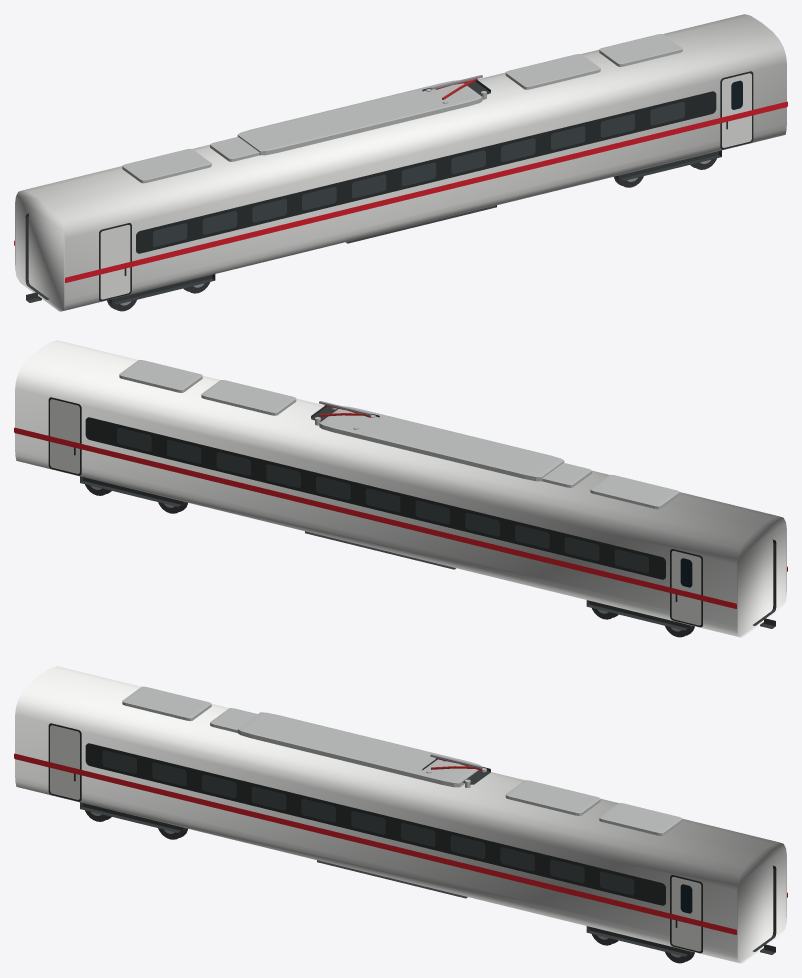
Rendered from ice3-br403-v2-unified-second-transformer-403-6.glb.
3 views of the same model, one above another, from view 1: azimuth 30°, elevation 25°; view 2: azimuth 150°, elevation 25°; view 3: azimuth 330°, elevation 25° (orthographic).
Parts seen in each view (by area): view 1: ice3_continuity_shared_transformer_shell.005, ice3_unified_second_transformer_403_6_continuous_black_glazi, ice3_v2_second_transformer_403_6_transformer_roof_cabinet, ice3_unified_second_transformer_403_6_shared_red_body_stripe, ice3_unified_second_transformer_403_6_rear_door_leaf_-1, ice3_v2_second_transformer_403_6_roof_fairing_3, ice3_v2_second_transformer_403_6_roof_fairing_0, ice3_v2_second_transformer_403_6_roof_fairing_4, ice3_unified_second_transformer_403_6_front_door_leaf_-1, ice3_v2_second_transformer_403_6_roof_fairing_1, ice3_v2_second_transformer_403_6_bogie_0_sideframe_-1, ice3_v2_second_transformer_403_6_bogie_1_sideframe_-1 (+11 smaller); view 2: ice3_continuity_shared_transformer_shell.005, ice3_unified_second_transformer_403_6_continuous_black_glazi, ice3_v2_second_transformer_403_6_transformer_roof_cabinet, ice3_unified_second_transformer_403_6_shared_red_body_stripe, ice3_v2_second_transformer_403_6_roof_fairing_3, ice3_unified_second_transformer_403_6_front_door_leaf_1, ice3_v2_second_transformer_403_6_roof_fairing_0, ice3_unified_second_transformer_403_6_rear_door_leaf_1, ice3_v2_second_transformer_403_6_roof_fairing_4, ice3_v2_second_transformer_403_6_bogie_0, ice3_v2_second_transformer_403_6_bogie_1, ice3_v2_second_transformer_403_6_roof_fairing_1 (+11 smaller); view 3: ice3_continuity_shared_transformer_shell.005, ice3_unified_second_transformer_403_6_continuous_black_glazi, ice3_v2_second_transformer_403_6_transformer_roof_cabinet, ice3_unified_second_transformer_403_6_shared_red_body_stripe, ice3_v2_second_transformer_403_6_roof_fairing_3, ice3_unified_second_transformer_403_6_rear_door_leaf_-1, ice3_v2_second_transformer_403_6_roof_fairing_0, ice3_unified_second_transformer_403_6_front_door_leaf_-1, ice3_v2_second_transformer_403_6_roof_fairing_4, ice3_v2_second_transformer_403_6_bogie_1_sideframe_-1, ice3_v2_second_transformer_403_6_bogie_0_sideframe_-1, ice3_v2_second_transformer_403_6_roof_fairing_1 (+11 smaller).
Boxes of the visible parts, x1=… form: ice3_continuity_shared_transformer_shell.005: x1=15, y1=14, x2=786, y2=311; ice3_unified_second_transformer_403_6_continuous_black_glazi: x1=136, y1=91, x2=716, y2=253; ice3_v2_second_transformer_403_6_transformer_roof_cabinet: x1=237, y1=80, x2=482, y2=155; ice3_unified_second_transformer_403_6_shared_red_body_stripe: x1=65, y1=101, x2=787, y2=282; ice3_unified_second_transformer_403_6_rear_door_leaf_-1: x1=100, y1=225, x2=130, y2=299; ice3_v2_second_transformer_403_6_roof_fairing_3: x1=505, y1=54, x2=600, y2=89; ice3_v2_second_transformer_403_6_roof_fairing_0: x1=122, y1=148, x2=211, y2=183; ice3_v2_second_transformer_403_6_roof_fairing_4: x1=599, y1=34, x2=682, y2=66; ice3_unified_second_transformer_403_6_front_door_leaf_-1: x1=722, y1=73, x2=751, y2=147; ice3_v2_second_transformer_403_6_roof_fairing_1: x1=210, y1=137, x2=259, y2=161; ice3_v2_second_transformer_403_6_bogie_0_sideframe_-1: x1=114, y1=274, x2=215, y2=304; ice3_v2_second_transformer_403_6_bogie_1_sideframe_-1: x1=620, y1=150, x2=721, y2=180; ice3_continuity_shared_transformer_shell.005: x1=15, y1=340, x2=786, y2=637; ice3_unified_second_transformer_403_6_continuous_black_glazi: x1=85, y1=417, x2=665, y2=579; ice3_v2_second_transformer_403_6_transformer_roof_cabinet: x1=319, y1=406, x2=564, y2=481; ice3_unified_second_transformer_403_6_shared_red_body_stripe: x1=14, y1=427, x2=736, y2=608; ice3_v2_second_transformer_403_6_roof_fairing_3: x1=201, y1=380, x2=296, y2=415; ice3_unified_second_transformer_403_6_front_door_leaf_1: x1=50, y1=399, x2=79, y2=473; ice3_v2_second_transformer_403_6_roof_fairing_0: x1=590, y1=474, x2=679, y2=509; ice3_unified_second_transformer_403_6_rear_door_leaf_1: x1=671, y1=551, x2=701, y2=625; ice3_v2_second_transformer_403_6_roof_fairing_4: x1=119, y1=360, x2=202, y2=392; ice3_v2_second_transformer_403_6_bogie_0: x1=586, y1=600, x2=694, y2=637; ice3_v2_second_transformer_403_6_bogie_1: x1=80, y1=476, x2=187, y2=513; ice3_v2_second_transformer_403_6_roof_fairing_1: x1=542, y1=463, x2=591, y2=487; ice3_continuity_shared_transformer_shell.005: x1=15, y1=666, x2=786, y2=963; ice3_unified_second_transformer_403_6_continuous_black_glazi: x1=85, y1=743, x2=665, y2=905; ice3_v2_second_transformer_403_6_transformer_roof_cabinet: x1=237, y1=712, x2=480, y2=787; ice3_unified_second_transformer_403_6_shared_red_body_stripe: x1=14, y1=753, x2=736, y2=934; ice3_v2_second_transformer_403_6_roof_fairing_3: x1=505, y1=780, x2=600, y2=815; ice3_unified_second_transformer_403_6_rear_door_leaf_-1: x1=50, y1=725, x2=79, y2=799; ice3_v2_second_transformer_403_6_roof_fairing_0: x1=122, y1=686, x2=211, y2=721; ice3_unified_second_transformer_403_6_front_door_leaf_-1: x1=671, y1=877, x2=701, y2=951; ice3_v2_second_transformer_403_6_roof_fairing_4: x1=599, y1=803, x2=682, y2=835; ice3_v2_second_transformer_403_6_bogie_1_sideframe_-1: x1=586, y1=926, x2=687, y2=956; ice3_v2_second_transformer_403_6_bogie_0_sideframe_-1: x1=80, y1=802, x2=181, y2=832; ice3_v2_second_transformer_403_6_roof_fairing_1: x1=210, y1=708, x2=257, y2=732.
Size of the model in its own units: 25.5 by 4.44 by 3.01.
